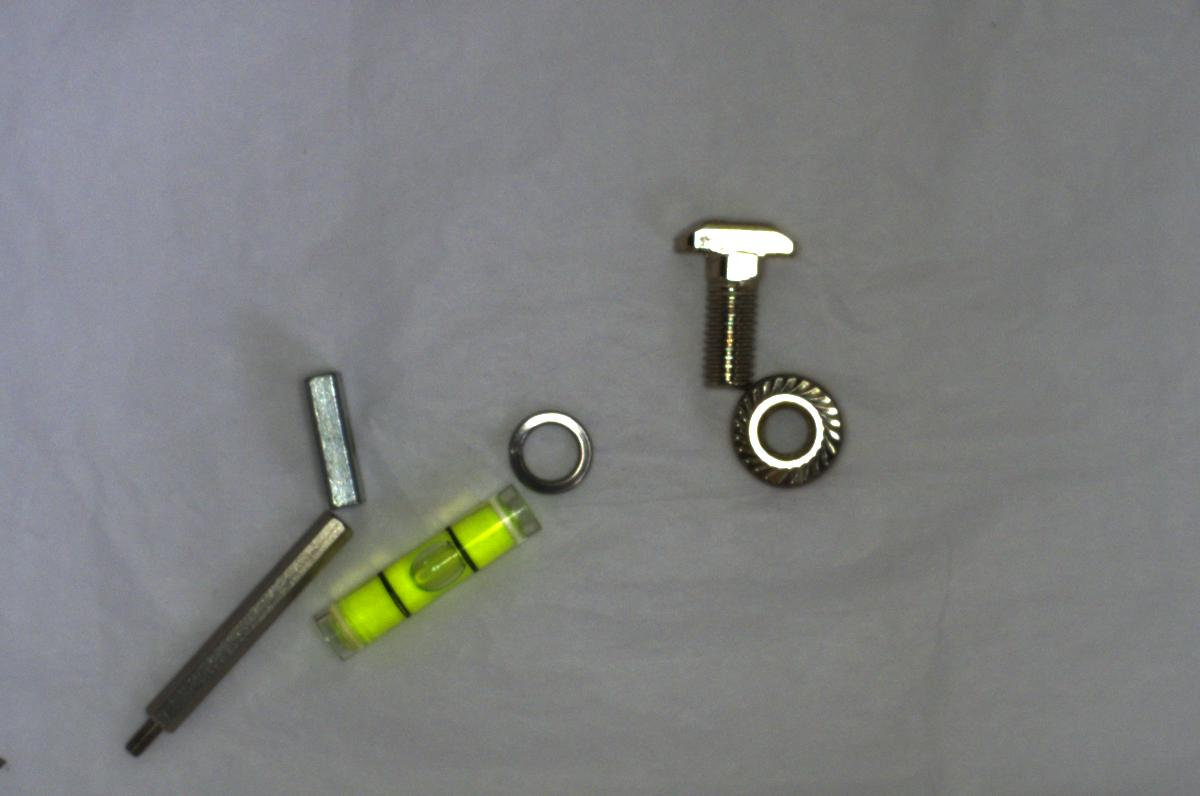Flange nut: (733, 365, 850, 487)
Hexagonal steel column: (121, 507, 346, 758)
Horizontal bubble: (313, 485, 545, 660)
Rectangular nut: (297, 366, 365, 509)
Spring washer: (506, 401, 598, 499)
T-shaped screw: (666, 212, 800, 389)
